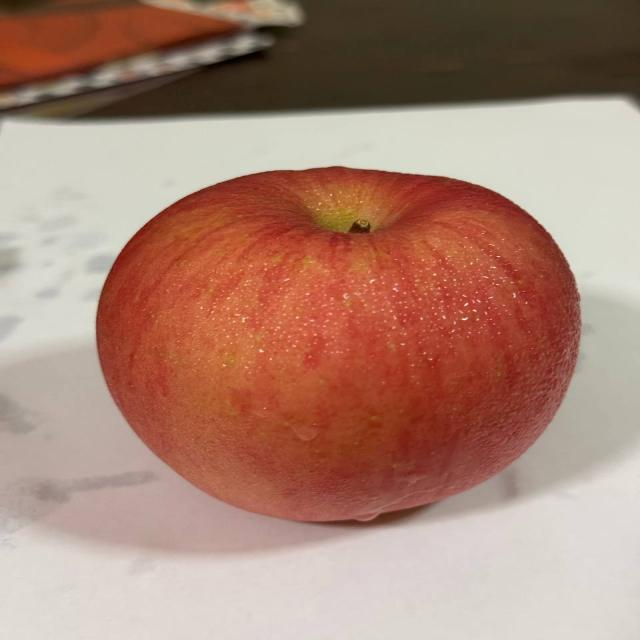apple: (82, 156, 594, 532)
